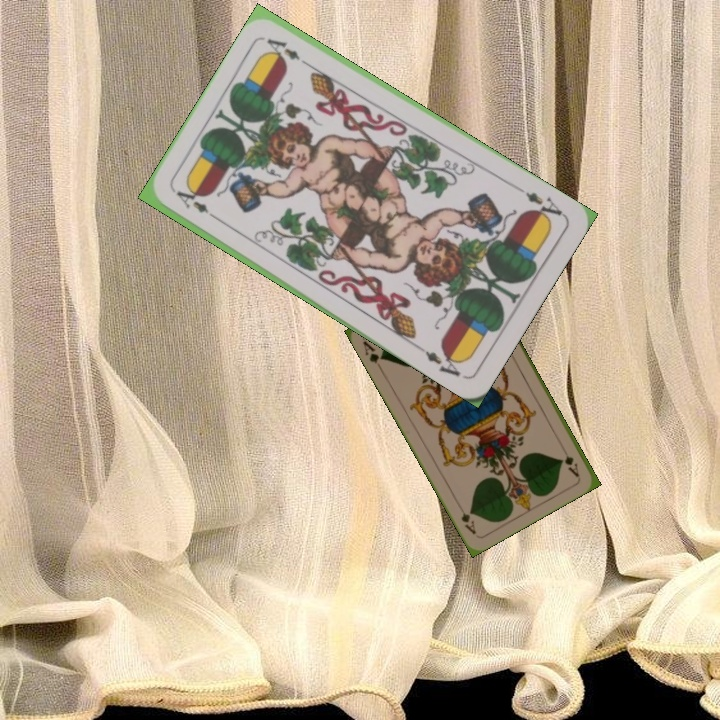EA: (172, 186, 223, 224), (521, 188, 566, 224)
GA: (358, 336, 386, 373), (557, 442, 582, 479)
